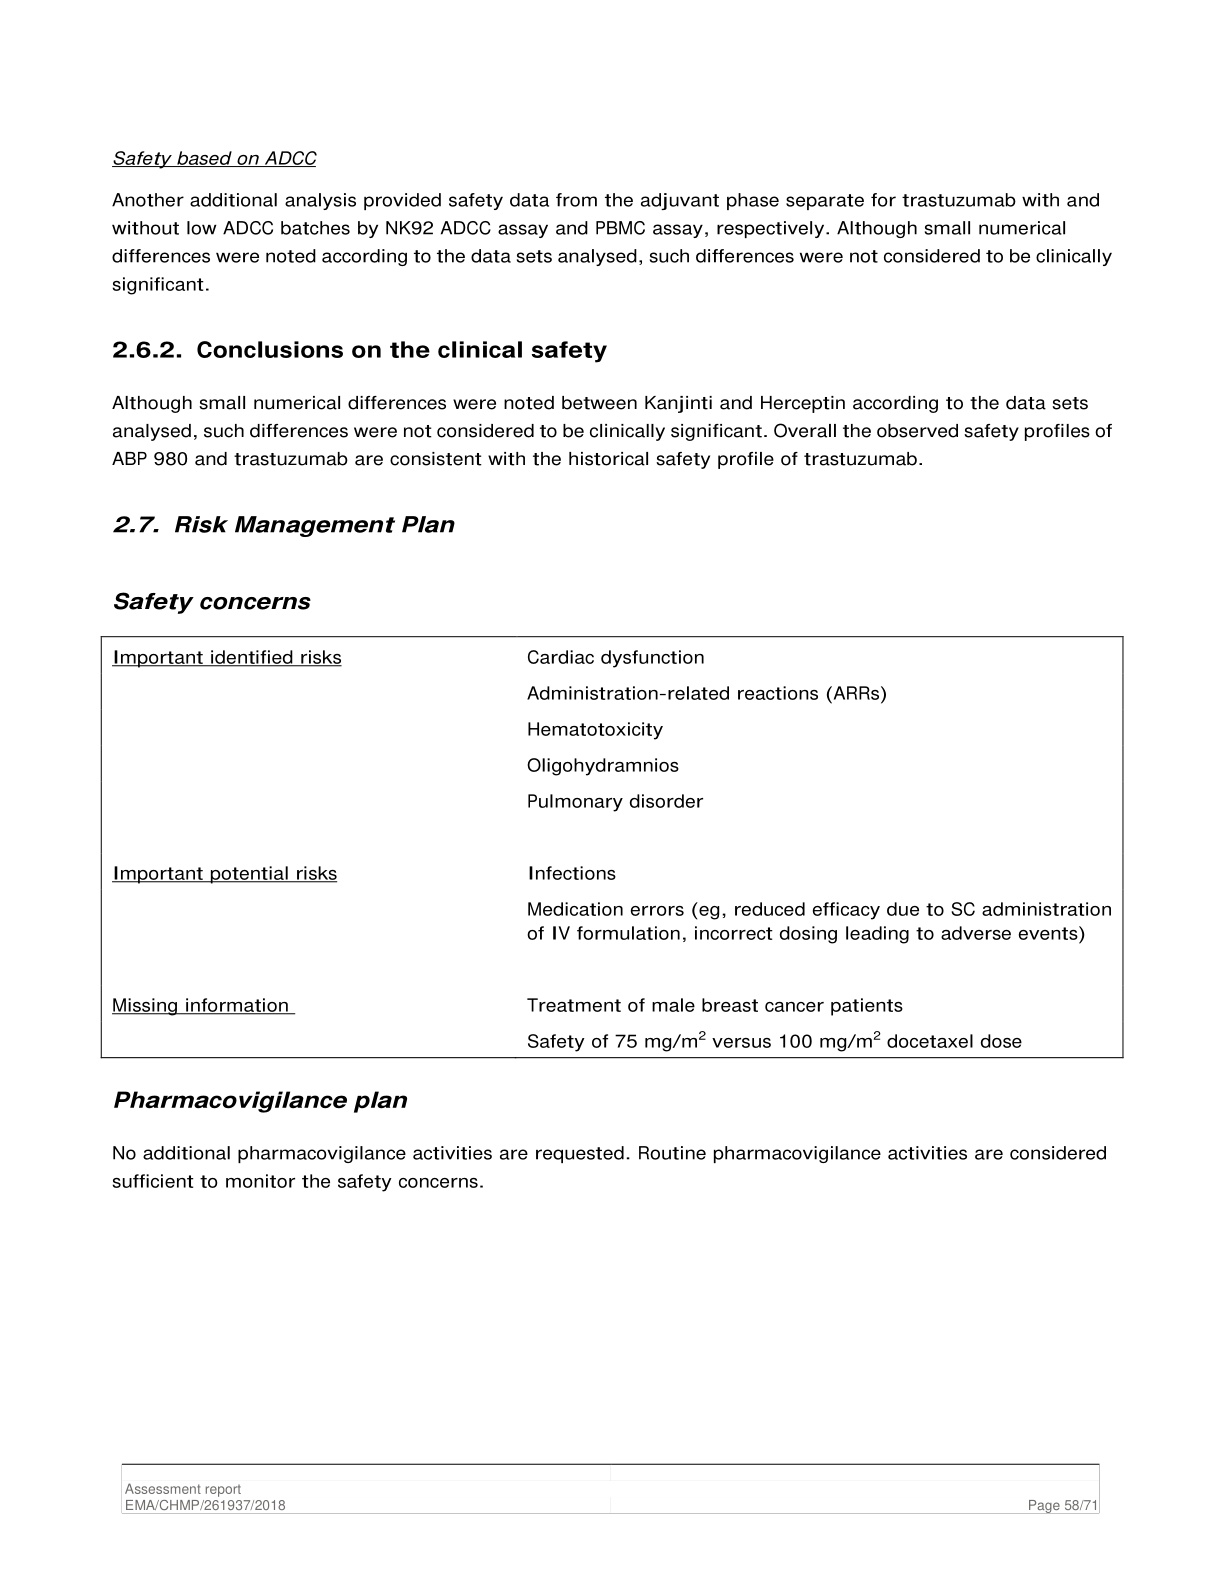partial_lined_merged_cells: (99, 634, 1124, 1059)
